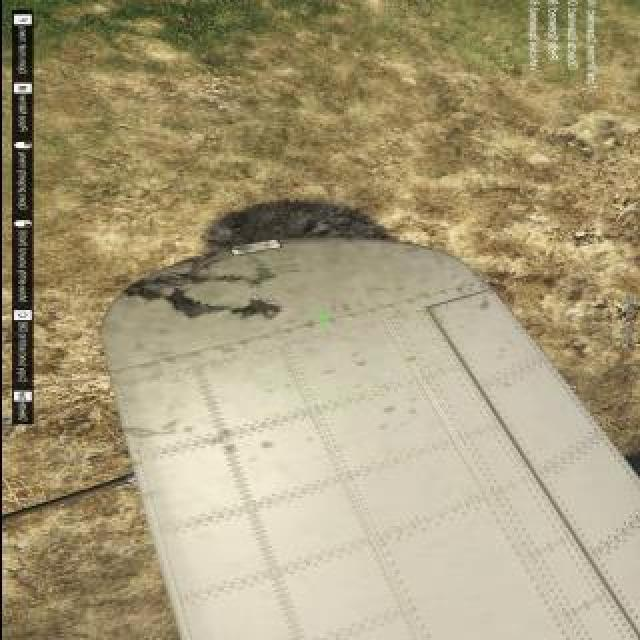dent: (124, 273, 192, 302), (162, 291, 221, 319), (202, 266, 274, 287), (227, 296, 283, 317), (191, 252, 225, 280)
